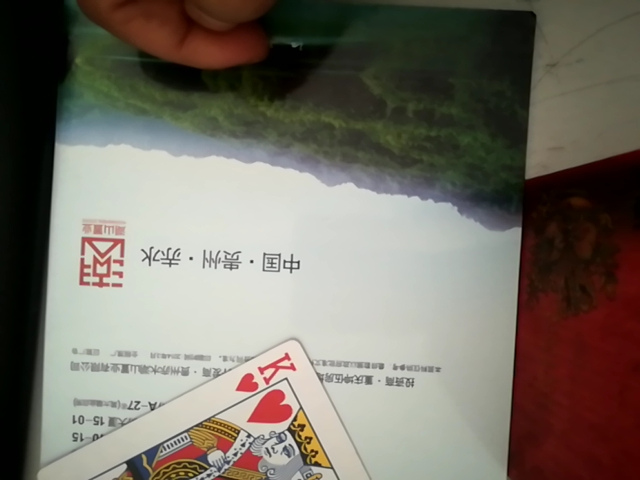hx k: (26, 349, 389, 480)
